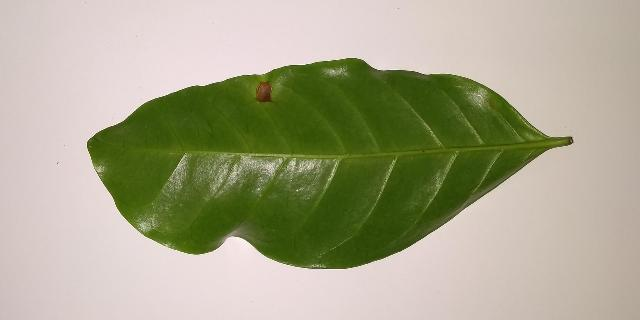rust: (257, 82, 271, 101)
